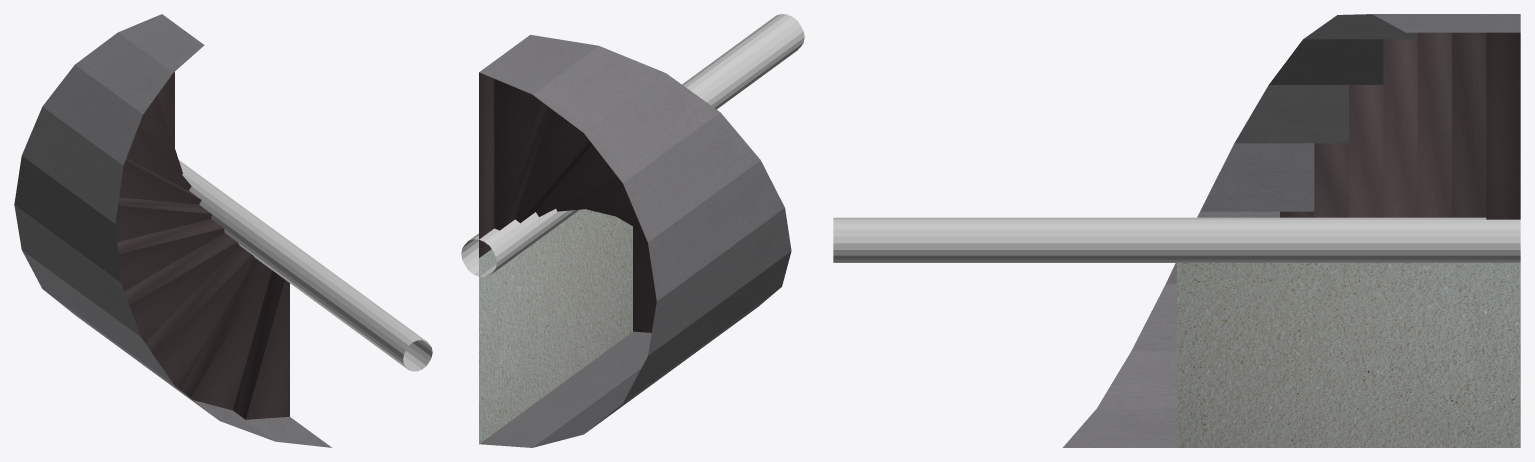
The model's file is escalier_etage1.obj.
3 renders of one model, left to right at view 1: azimuth 30°, elevation 25°; view 2: azimuth 150°, elevation 25°; view 3: azimuth 270°, elevation 25°, orthographic. The views are drawn at different scales.
Bounding box in the file's own units: 2.2 × 4 × 6.
